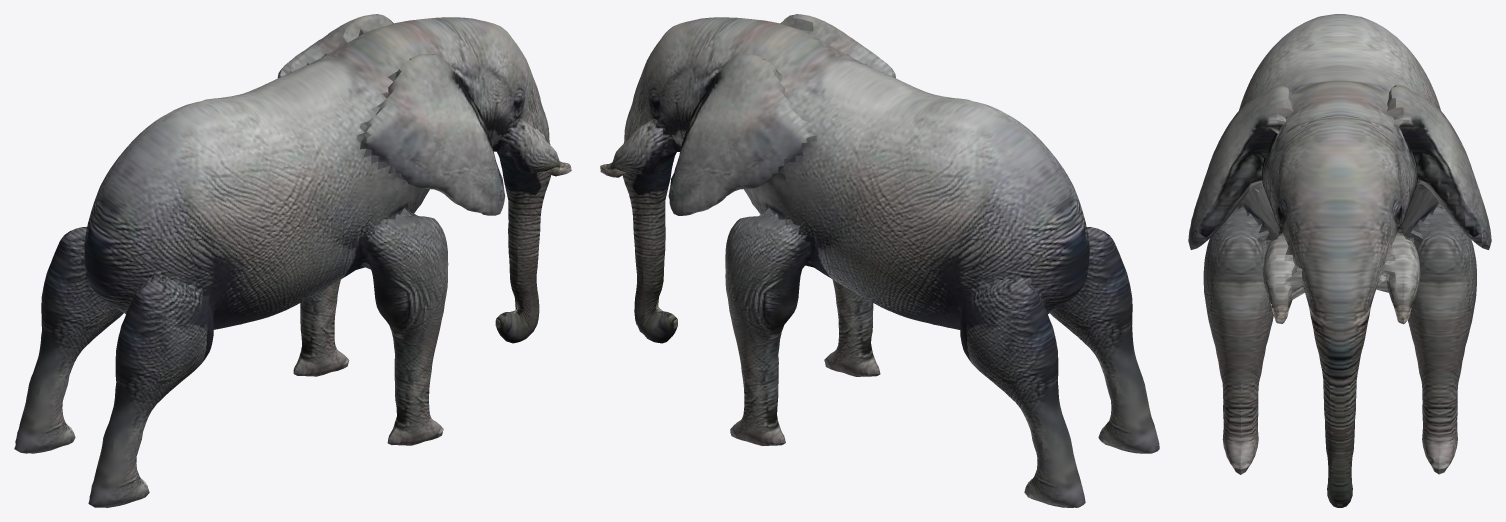
Rendered from elefante.glb.
3 views of the same model, side by side, from view 1: azimuth 30°, elevation 25°; view 2: azimuth 150°, elevation 25°; view 3: azimuth 270°, elevation 25° (orthographic). The views are drawn at different scales.
Visible parts, largest first — view 1: Object_2; view 2: Object_2; view 3: Object_2.
Part boxes in pixels (x1,y1,x2,y2): Object_2: [14, 14, 571, 507]; Object_2: [600, 14, 1159, 507]; Object_2: [1188, 14, 1491, 507].
Bounding box in the file's own units: 7.02 × 5 × 3.52.
Materials: 1 (1 with a texture image).
